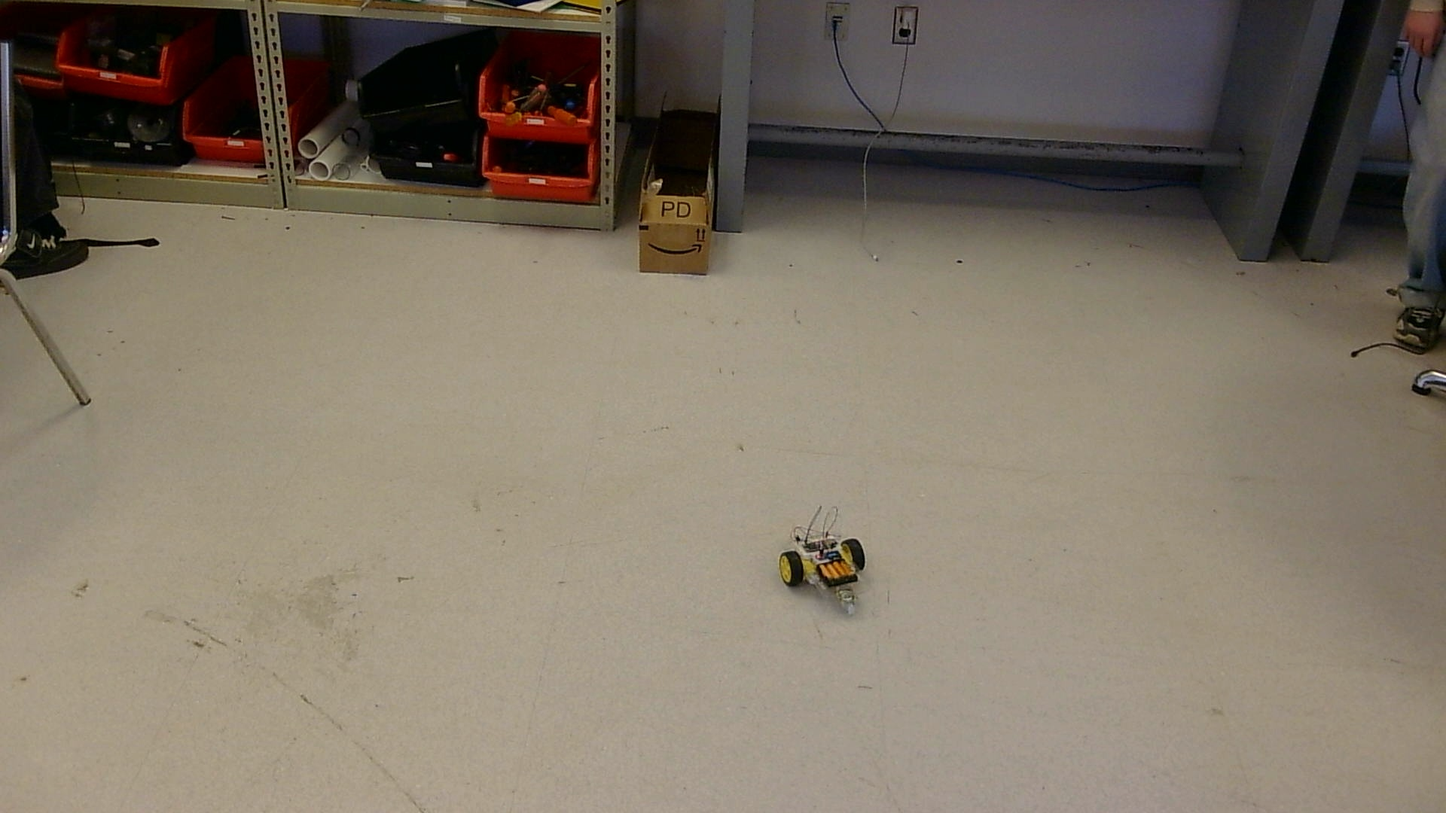robot: (779, 507, 865, 614)
